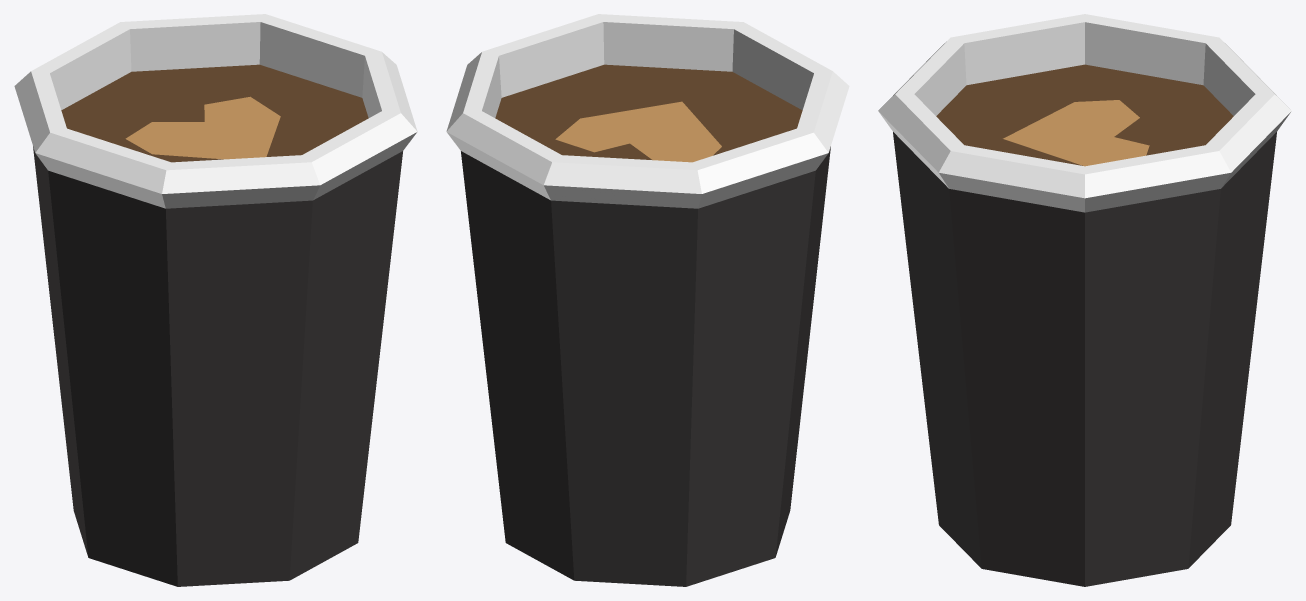
Rendered from drinks-cup-small-decoration-coffee.glb.
3 renders of one model, left to right at view 1: azimuth 30°, elevation 25°; view 2: azimuth 150°, elevation 25°; view 3: azimuth 270°, elevation 25°, orthographic.
Visible parts, largest first — view 1: cup-small-decoration-coffee; view 2: cup-small-decoration-coffee; view 3: cup-small-decoration-coffee.
Part boxes in pixels (box(x1,y1,x2,y2)): cup-small-decoration-coffee: box(14, 14, 417, 586); cup-small-decoration-coffee: box(446, 14, 849, 586); cup-small-decoration-coffee: box(878, 14, 1291, 586).
Bounding box in the file's own units: 0.0656 × 0.0754 × 0.0656.
